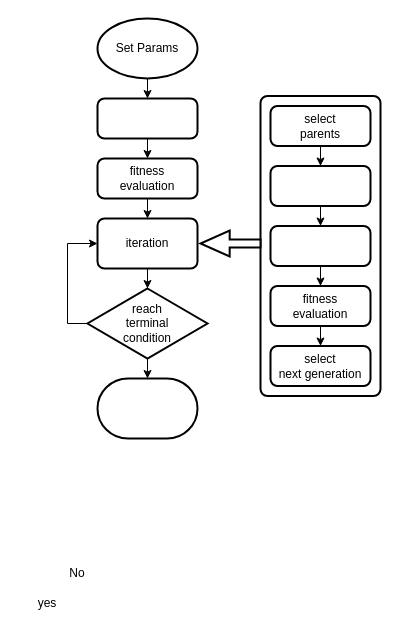
This 398x635 diagram has some shape labels left out. The shapes that lost their labels are listed below. From the top down, each one's centre as x and y in pixels, then its label:
(x=147, y=118): initialize population
(x=320, y=185): crossover
(x=320, y=245): mutation
(x=147, y=408): Terminate
